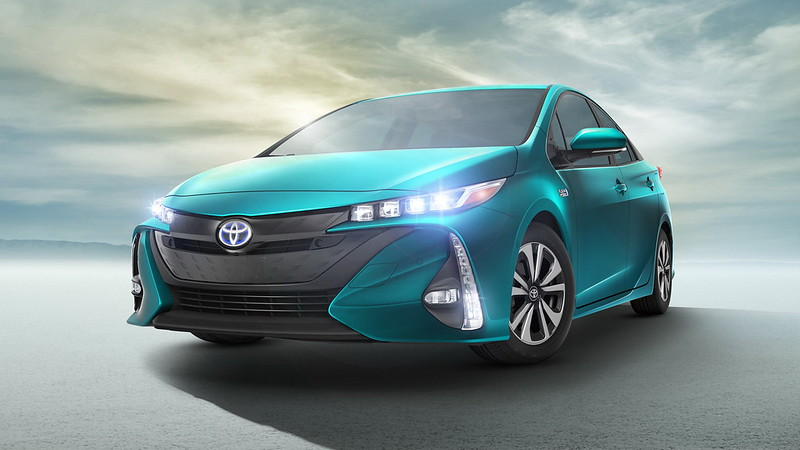car: (127, 76, 678, 366)
